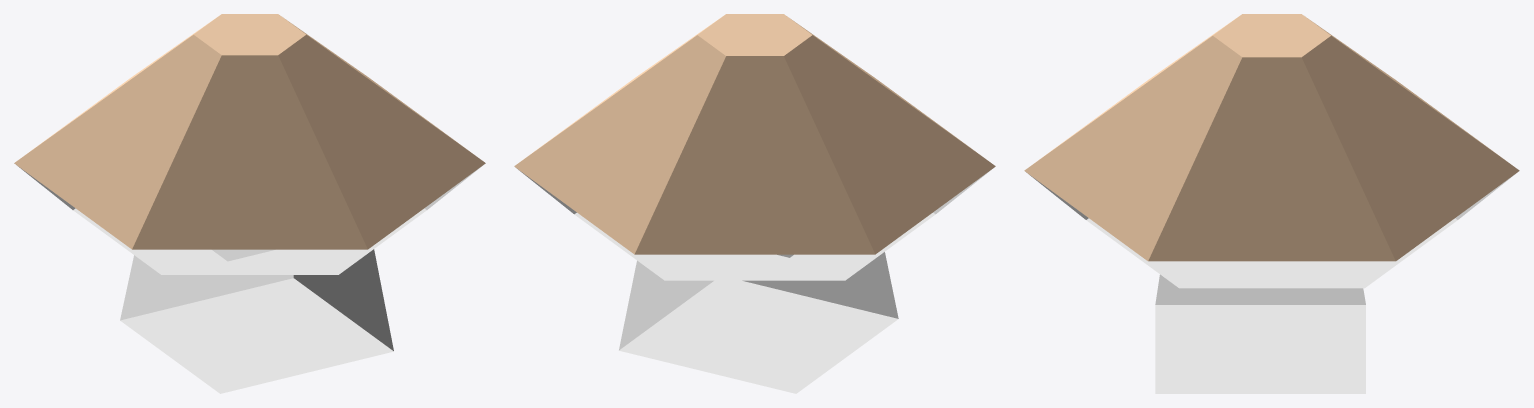
The model's file is mushroom_brown.glb.
3 renders of one model, left to right at view 1: azimuth 30°, elevation 25°; view 2: azimuth 150°, elevation 25°; view 3: azimuth 270°, elevation 25°, orthographic. The views are drawn at different scales.
Parts seen in each view (by area): view 1: mushroom_brown; view 2: mushroom_brown; view 3: mushroom_brown.
Part boxes in pixels (<box>): mushroom_brown: <box>14,14,485,393</box>; mushroom_brown: <box>514,14,995,393</box>; mushroom_brown: <box>1024,14,1519,393</box>.
Size of the model in its own units: 1.91 by 1.54 by 2.21.
